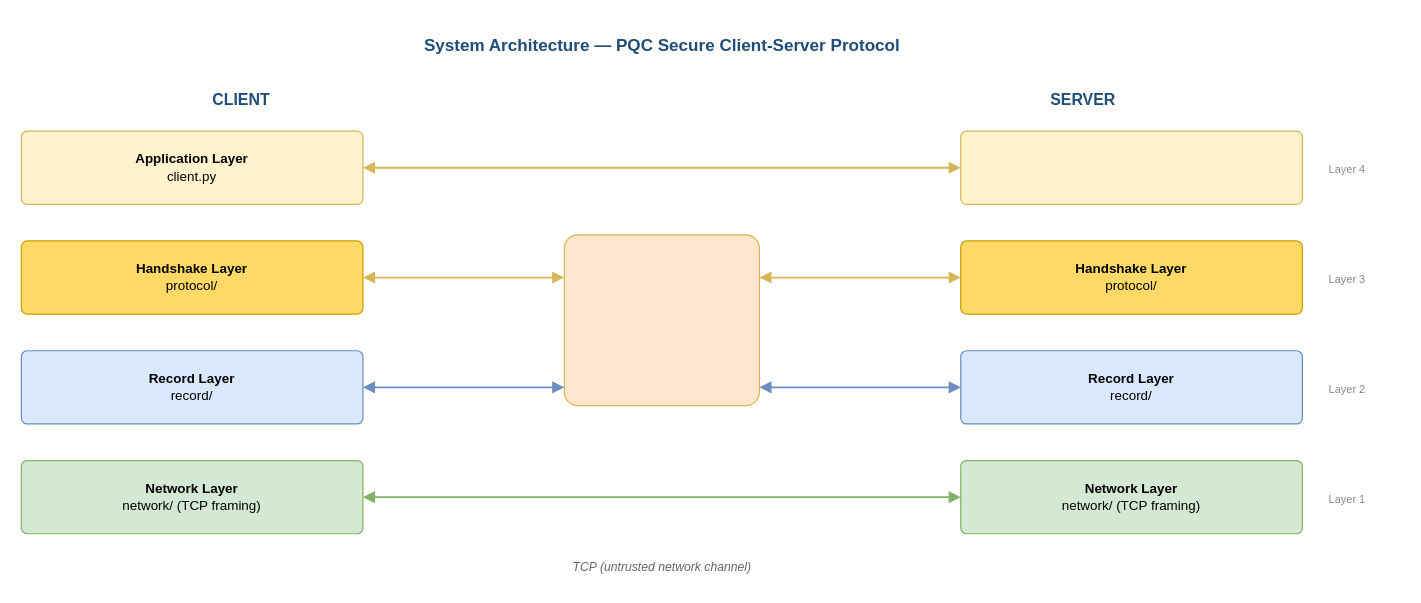
Image size: 1421x603. Some labels were removed from this diagram. Each missing label, with the centre of its shape:
"Application Layer server.py" belongs at [1131,167].
"security/ cert_validator revocation identity_binding cookie" belongs at [661,320].
